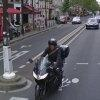Motorcycle: (25, 37, 71, 100)
